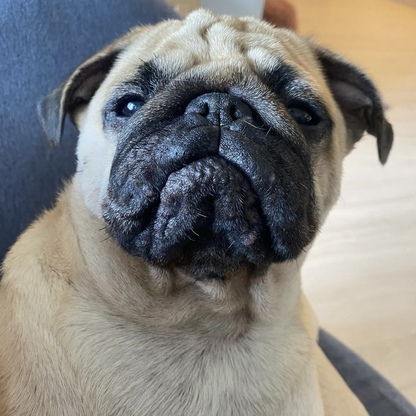Pug: (1, 3, 400, 416)
